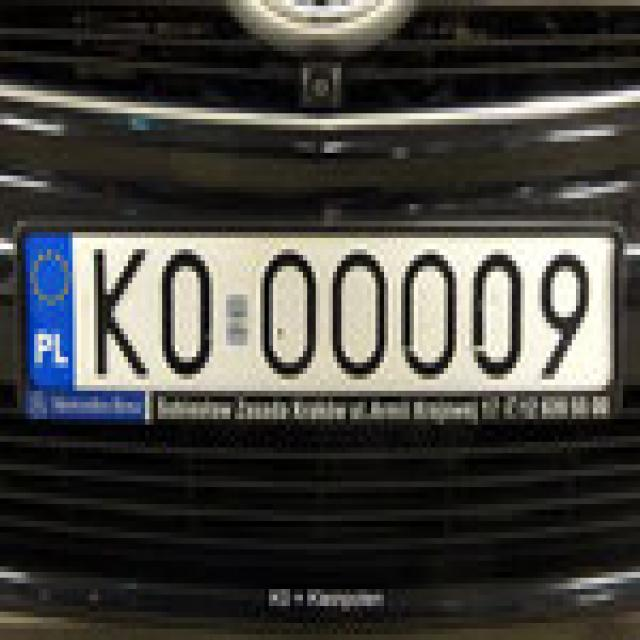pl_license_plate: (21, 227, 610, 385)
